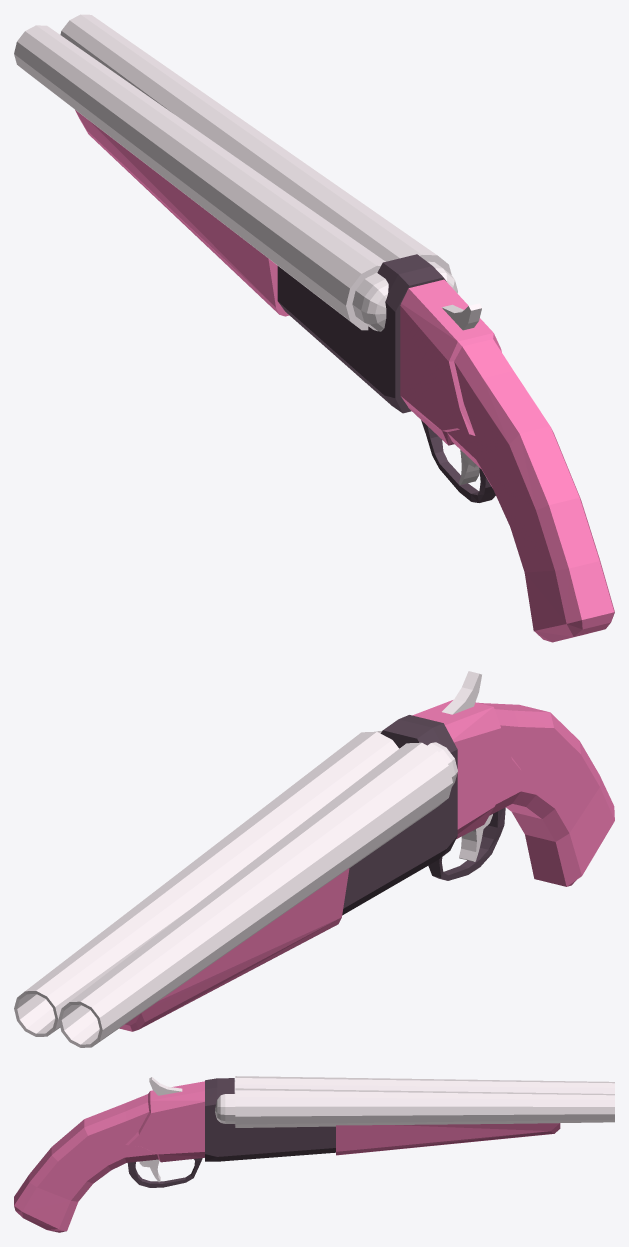
The model's file is Shotgun_SawedOff.obj.
The picture shows the model from 3 angles, top to bottom: view 1: azimuth 30°, elevation 25°; view 2: azimuth 150°, elevation 25°; view 3: azimuth 270°, elevation 25°; orthographic projection. The views are drawn at different scales.
Parts seen in each view (by area): view 1: Body, Grip, Hardware; view 2: Body, Grip, Hardware; view 3: Body, Grip, Hardware.
Boxes of the visible parts, left/top/right/bottom form: Body: left=14, top=14, right=481, bottom=484; Grip: left=75, top=110, right=614, bottom=642; Hardware: left=277, top=254, right=495, bottom=502; Body: left=14, top=671, right=492, bottom=1047; Grip: left=119, top=700, right=614, bottom=1031; Hardware: left=342, top=715, right=505, bottom=915; Body: left=139, top=1076, right=614, bottom=1182; Grip: left=14, top=1081, right=560, bottom=1232; Hardware: left=127, top=1078, right=335, bottom=1187.
Size of the model in its own units: 0.5956 by 1.44 by 5.2.
